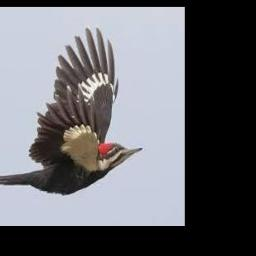Woodpecker: (0, 27, 143, 193)
